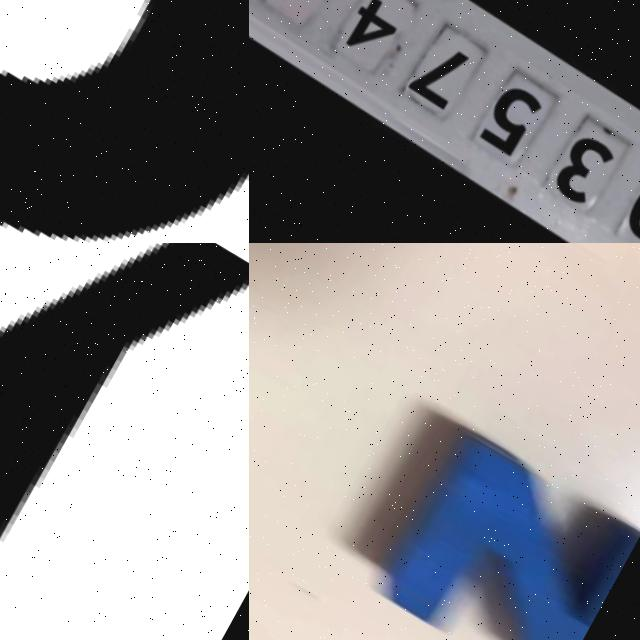0: (611, 154, 640, 243)
3: (540, 113, 630, 222)
4: (329, 0, 416, 80), (264, 0, 347, 31)
5: (468, 65, 557, 170)
7: (398, 19, 487, 127)
N: (364, 409, 640, 640)
Y: (0, 243, 249, 640)
